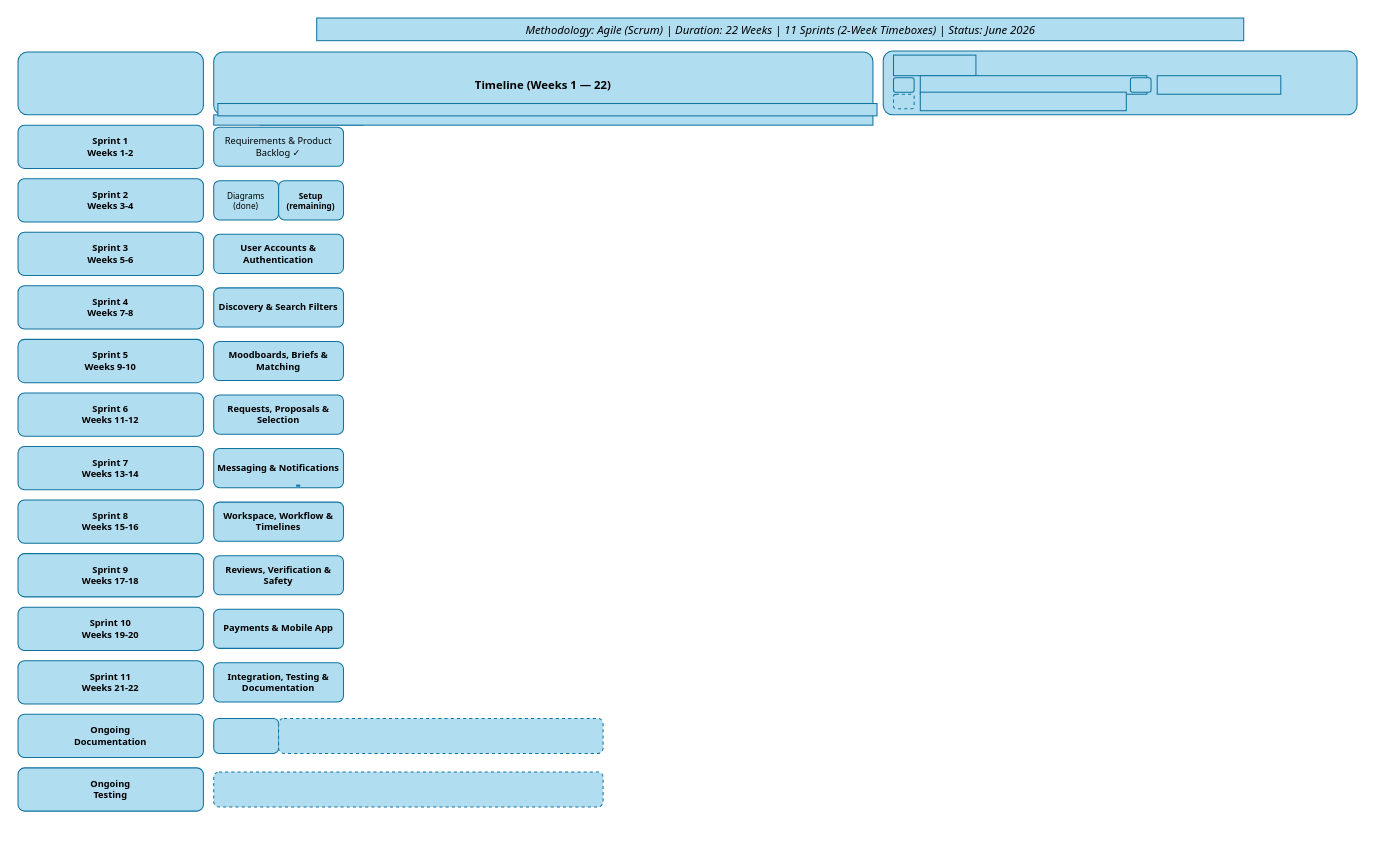
The diagram is 1375 pixels wide and 865 high, and some of its shapes have lost their labels. The box of each missing label's shape, as (x1, y1, x2, y2) in pixels:
Activity / Sprint: (17, 51, 203, 115)
Continuous Testing (ongoing): (213, 771, 603, 807)
Documentation Updates (ongoing): (278, 717, 603, 753)
Legend:: (892, 54, 976, 76)
Ongoing (continuous activity): (919, 91, 1126, 111)
W1 W2 W3 W4 W5 W6 W7 W8 W9 W10 W11 W12 W13 W14 W15 W16 W17 W18 W19 W20 W21 W22: (217, 102, 877, 116)
Work Completed (documentation & coding): (919, 75, 1147, 94)
Work Remaining: (1156, 75, 1281, 94)
▼ Now (Week 4): (259, 108, 363, 125)
